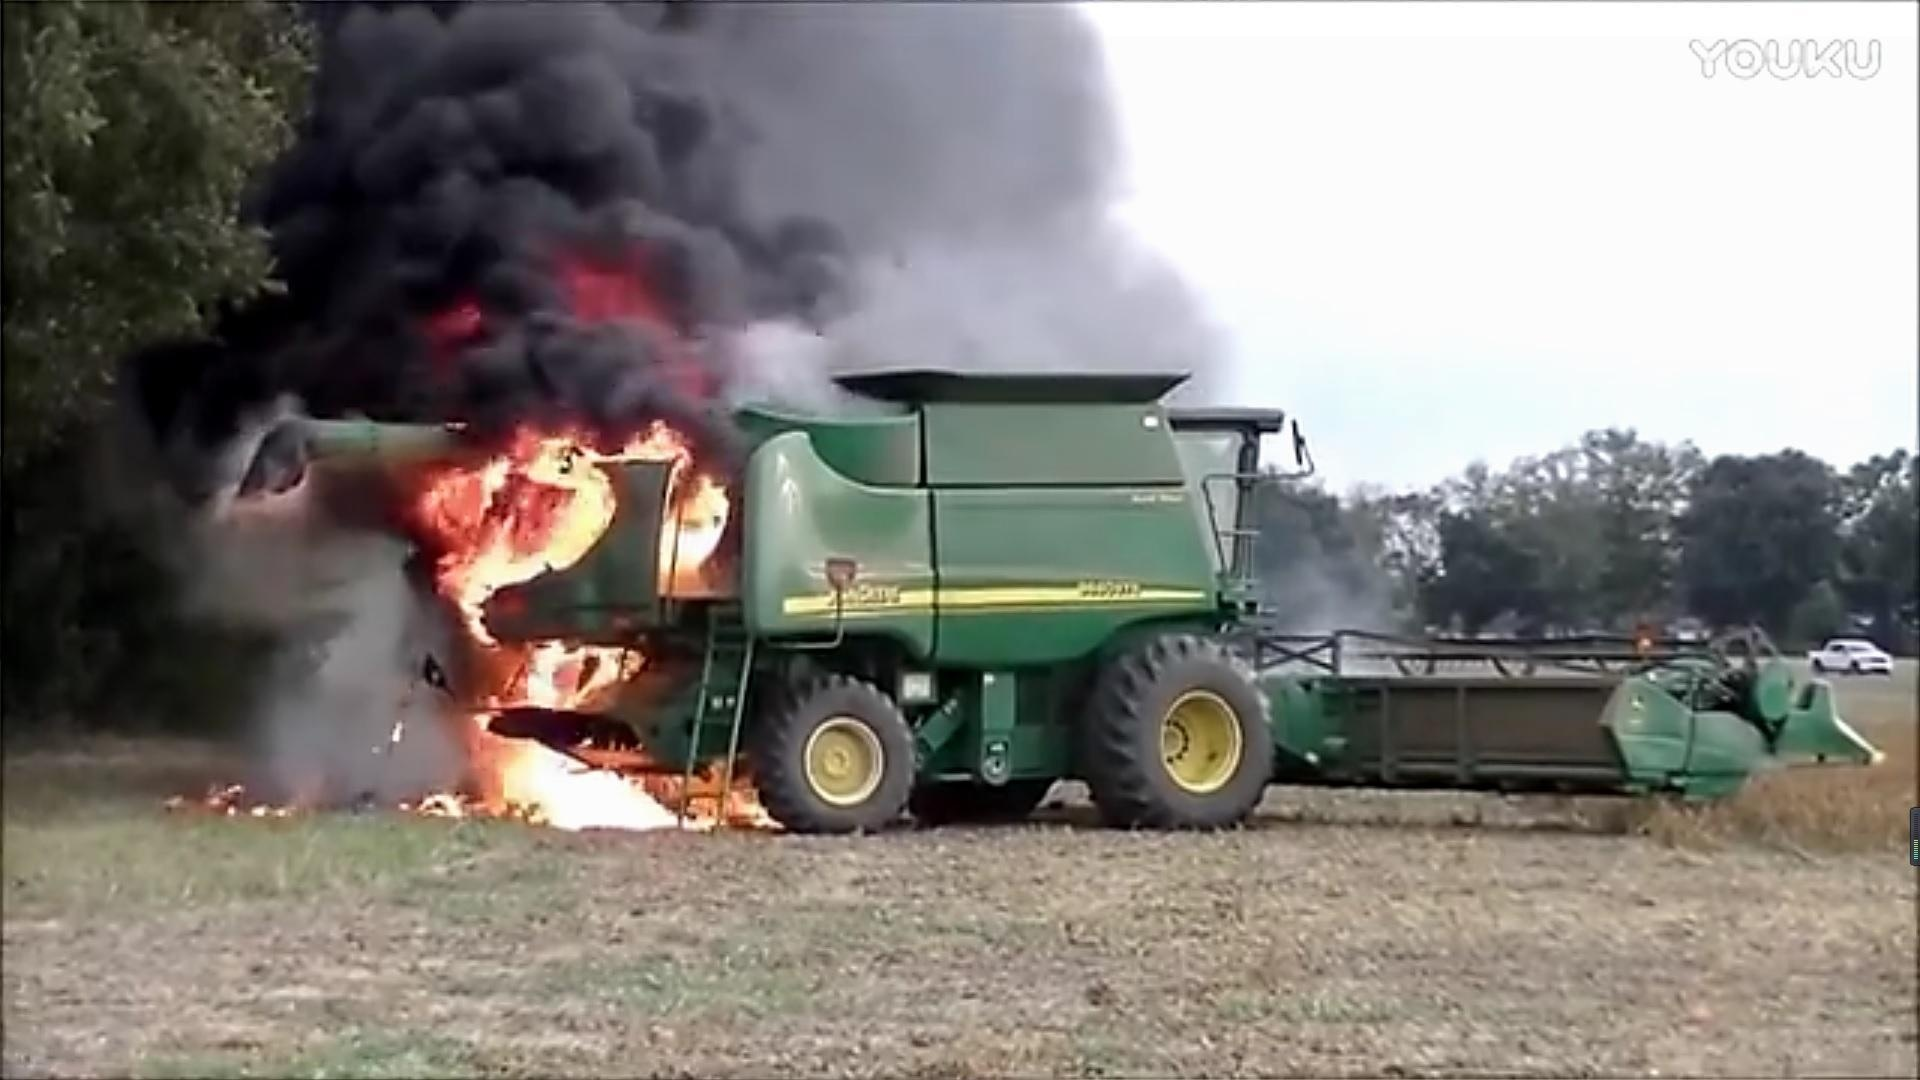fire: (422, 413, 741, 843)
